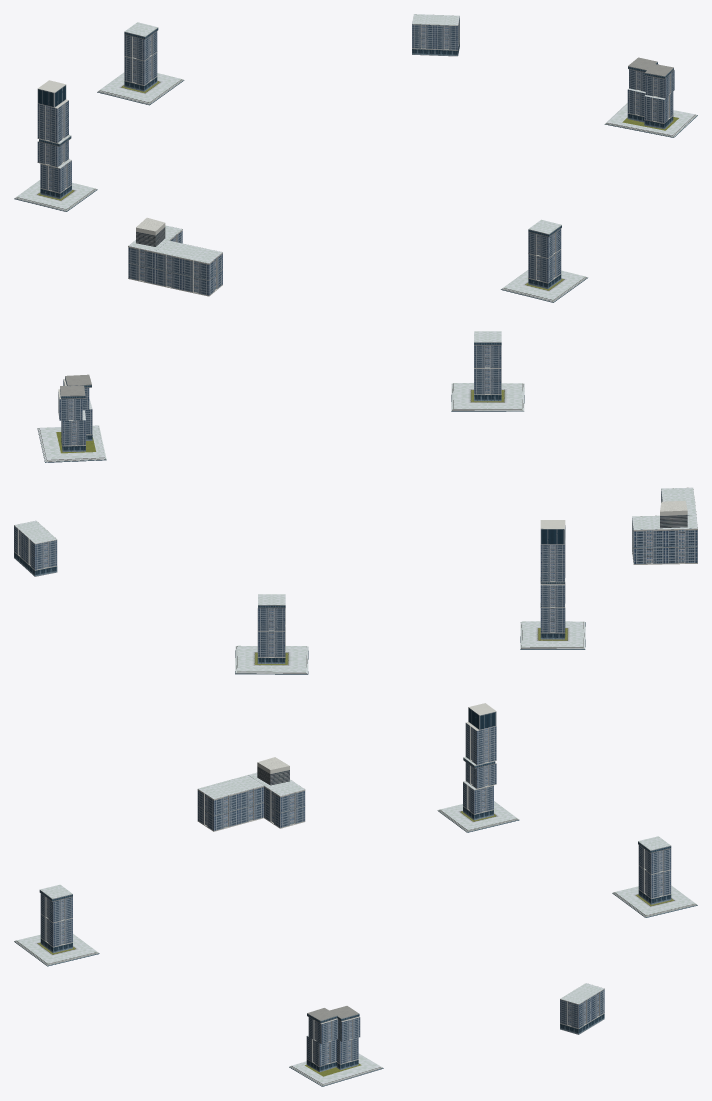
File: Austin_track_building_city_03.dae
3 views of the same model, one above another, from view 1: azimuth 30°, elevation 25°; view 2: azimuth 150°, elevation 25°; view 3: azimuth 270°, elevation 25° (orthographic). The views are drawn at different scales.
Parts seen in each view (by area): view 1: building_city_03_04, building_city_03_02, building_city_03_05, building_city_03_03, building_city_03_06, building_city_03_01; view 2: building_city_03_02, building_city_03_04, building_city_03_05, building_city_03_03, building_city_03_06, building_city_03_01; view 3: building_city_03_04, building_city_03_02, building_city_03_05, building_city_03_03, building_city_03_06, building_city_03_01.
Part boxes in pixels (x1,y1,x2,y2): building_city_03_04: (128, 217, 222, 296); building_city_03_02: (14, 80, 97, 211); building_city_03_05: (604, 57, 697, 137); building_city_03_03: (97, 22, 184, 105); building_city_03_06: (501, 219, 587, 302); building_city_03_01: (412, 14, 459, 56); building_city_03_02: (520, 520, 585, 649); building_city_03_04: (632, 487, 697, 564); building_city_03_05: (37, 374, 106, 462); building_city_03_03: (235, 594, 308, 674); building_city_03_06: (451, 331, 524, 411); building_city_03_01: (14, 520, 57, 576); building_city_03_04: (197, 757, 305, 831); building_city_03_02: (437, 703, 519, 832); building_city_03_05: (289, 1006, 383, 1086); building_city_03_03: (612, 836, 697, 917); building_city_03_06: (14, 884, 99, 966); building_city_03_01: (560, 983, 604, 1034).
Bounding box in the file's own units: 75.27 × 75.47 × 12.9.
4 materials, 4 textured.
